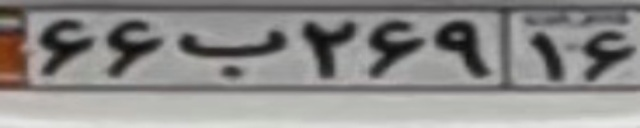1: (531, 31, 567, 80)
2: (302, 21, 355, 78)
6: (361, 20, 425, 78), (102, 19, 162, 76), (39, 19, 91, 74), (581, 29, 635, 81)
9: (437, 21, 487, 77)
be: (179, 28, 286, 78)
